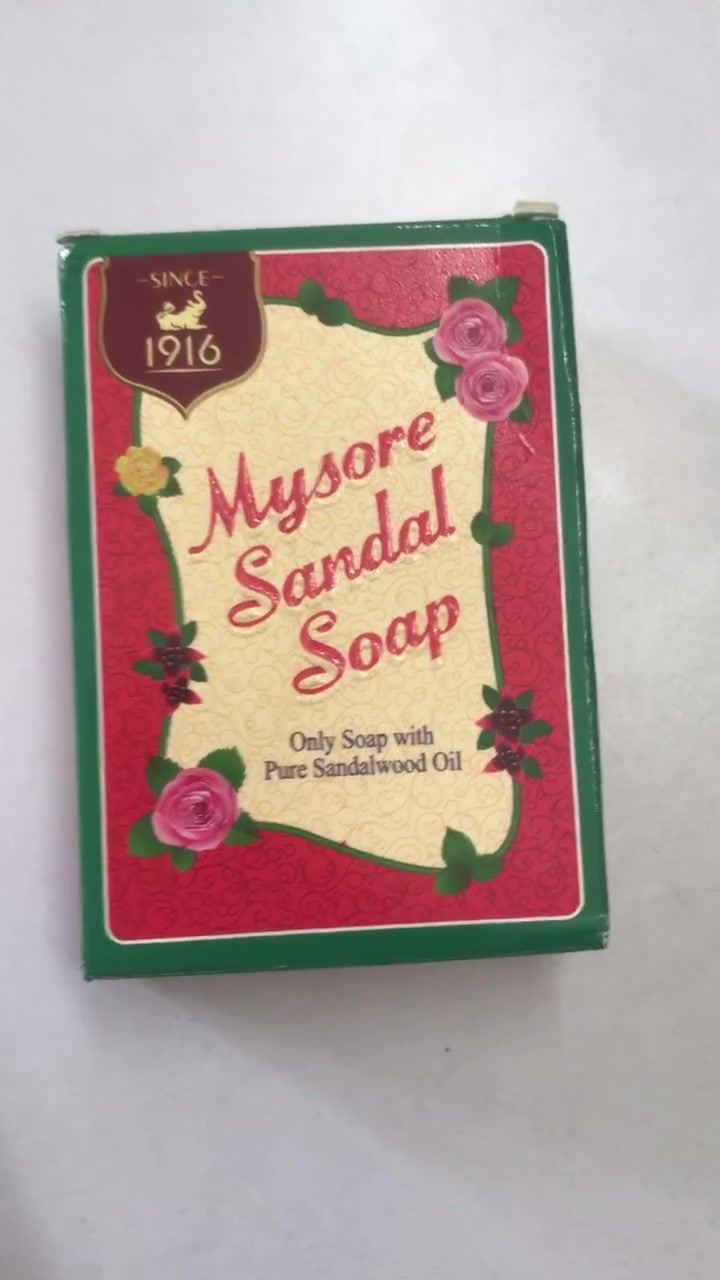mysore sandal soap: (69, 228, 614, 953)
